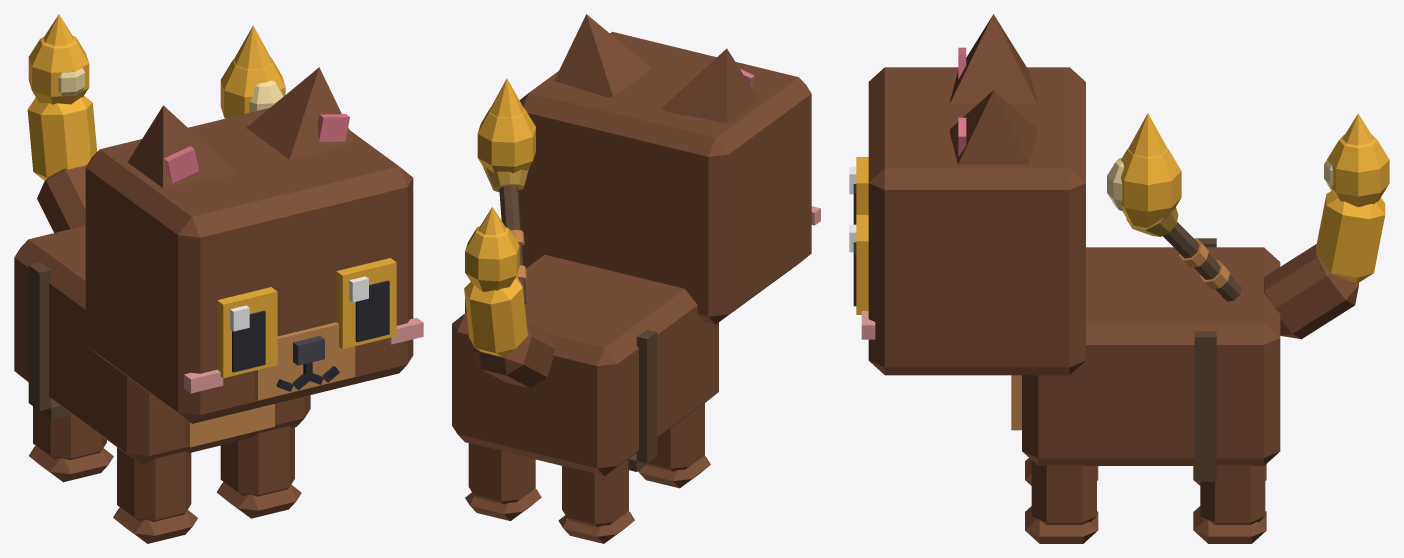
The model's file is CatCafe_Cat_Torch.glb.
3 renders of one model, left to right at view 1: azimuth 30°, elevation 25°; view 2: azimuth 150°, elevation 25°; view 3: azimuth 270°, elevation 25°, orthographic. The views are drawn at different scales.
Parts seen in each view (by area): view 1: CatCafe_Cat_Torch_Head, CatCafe_Cat_Torch_Body, CatCafe_Cat_Torch_Tail, CatCafe_Cat_Torch_LegF2, CatCafe_Cat_Torch_LegF1, CatCafe_Cat_Torch_EarL, CatCafe_Cat_Torch_Eye2, CatCafe_Cat_Torch_Eye1, CatCafe_Cat_Torch_EarR, CatCafe_Cat_Torch_LegB2, CatCafe_Cat_Torch_Tail_Flame, CatCafe_Cat_Torch_Flame (+1 smaller); view 2: CatCafe_Cat_Torch_Head, CatCafe_Cat_Torch_Body, CatCafe_Cat_Torch_Tail, CatCafe_Cat_Torch_Prop, CatCafe_Cat_Torch_LegB2, CatCafe_Cat_Torch_EarL, CatCafe_Cat_Torch_LegB1, CatCafe_Cat_Torch_EarR, CatCafe_Cat_Torch_Flame, CatCafe_Cat_Torch_LegF2, CatCafe_Cat_Torch_Tail_Flame; view 3: CatCafe_Cat_Torch_Head, CatCafe_Cat_Torch_Body, CatCafe_Cat_Torch_Tail, CatCafe_Cat_Torch_Prop, CatCafe_Cat_Torch_Flame, CatCafe_Cat_Torch_LegF1, CatCafe_Cat_Torch_LegB1, CatCafe_Cat_Torch_EarR, CatCafe_Cat_Torch_EarL, CatCafe_Cat_Torch_Tail_Flame, CatCafe_Cat_Torch_Eye1, CatCafe_Cat_Torch_Eye2.
Part boxes in pixels (x1,y1,x2,y2): CatCafe_Cat_Torch_Head: (85, 108, 423, 423); CatCafe_Cat_Torch_Body: (14, 225, 310, 464); CatCafe_Cat_Torch_Tail: (27, 96, 97, 232); CatCafe_Cat_Torch_LegF2: (113, 447, 197, 543); CatCafe_Cat_Torch_LegF1: (216, 426, 301, 518); CatCafe_Cat_Torch_EarL: (246, 67, 354, 159); CatCafe_Cat_Torch_Eye2: (217, 287, 277, 378); CatCafe_Cat_Torch_Eye1: (336, 258, 396, 349); CatCafe_Cat_Torch_EarR: (127, 105, 236, 188); CatCafe_Cat_Torch_LegB2: (29, 406, 113, 482); CatCafe_Cat_Torch_Tail_Flame: (28, 14, 89, 104); CatCafe_Cat_Torch_Flame: (220, 25, 285, 118); CatCafe_Cat_Torch_Head: (518, 31, 820, 324); CatCafe_Cat_Torch_Body: (452, 254, 718, 476); CatCafe_Cat_Torch_Tail: (464, 276, 555, 388); CatCafe_Cat_Torch_Prop: (465, 167, 657, 471); CatCafe_Cat_Torch_LegB2: (558, 459, 634, 543); CatCafe_Cat_Torch_EarL: (554, 14, 651, 97); CatCafe_Cat_Torch_LegB1: (465, 443, 541, 520); CatCafe_Cat_Torch_EarR: (661, 48, 758, 122); CatCafe_Cat_Torch_Flame: (477, 78, 535, 173); CatCafe_Cat_Torch_LegF2: (638, 403, 710, 488); CatCafe_Cat_Torch_Tail_Flame: (465, 207, 519, 291); CatCafe_Cat_Torch_Head: (861, 67, 1085, 375); CatCafe_Cat_Torch_Body: (1011, 247, 1280, 465); CatCafe_Cat_Torch_Tail: (1264, 191, 1385, 339); CatCafe_Cat_Torch_Prop: (1126, 207, 1241, 481); CatCafe_Cat_Torch_Flame: (1107, 113, 1181, 227); CatCafe_Cat_Torch_LegF1: (1025, 460, 1098, 543); CatCafe_Cat_Torch_LegB1: (1193, 464, 1266, 543); CatCafe_Cat_Torch_EarR: (950, 14, 1036, 103); CatCafe_Cat_Torch_EarL: (950, 90, 1036, 164); CatCafe_Cat_Torch_Tail_Flame: (1324, 113, 1389, 207); CatCafe_Cat_Torch_Eye1: (849, 215, 868, 314); CatCafe_Cat_Torch_Eye2: (849, 157, 868, 224).
Bounding box in the file's own units: 1 × 1.86 × 1.99.
1 material, 1 textured.
